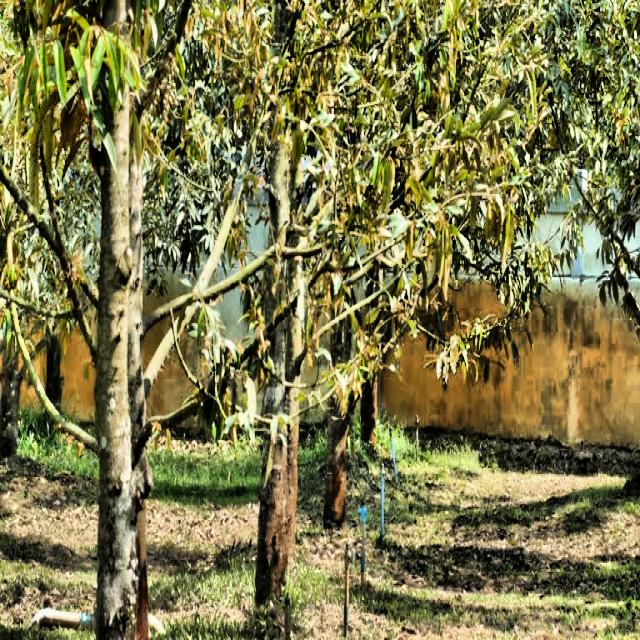arvore: (81, 10, 145, 640), (258, 4, 304, 640), (321, 241, 351, 542), (354, 231, 386, 456)
